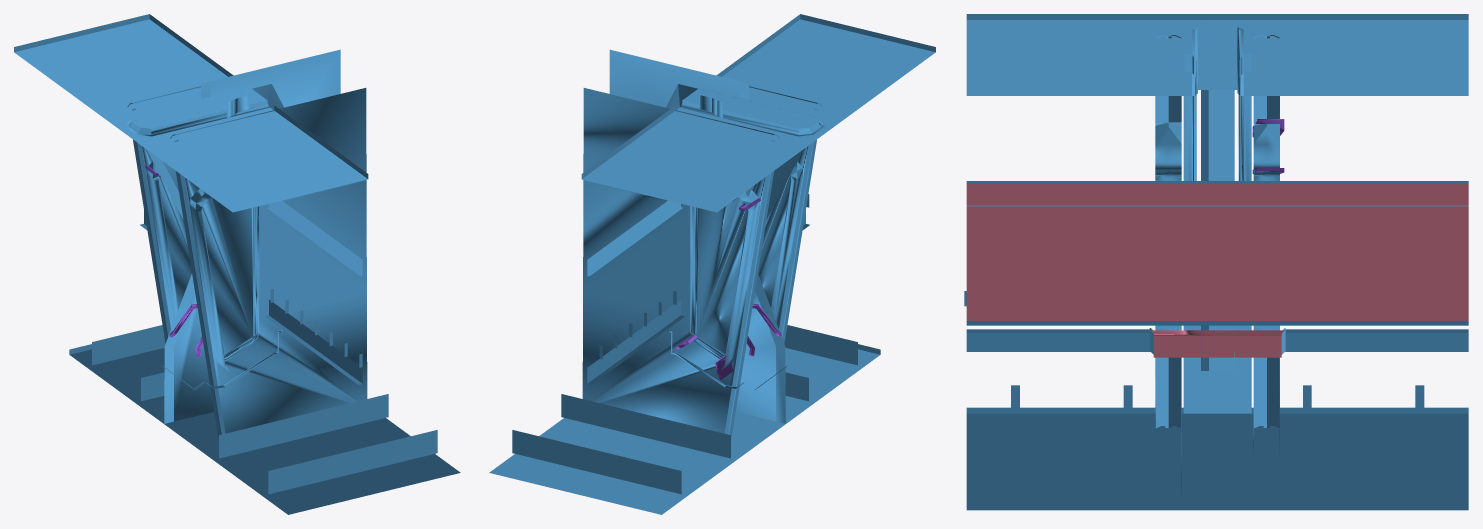
File: addon_rib_a_lod1.glb
3 views of the same model, side by side, from view 1: azimuth 30°, elevation 25°; view 2: azimuth 150°, elevation 25°; view 3: azimuth 270°, elevation 25° (orthographic). The views are drawn at different scales.
Bounding box in the file's own units: 5.14 × 6.77 × 8.04.
